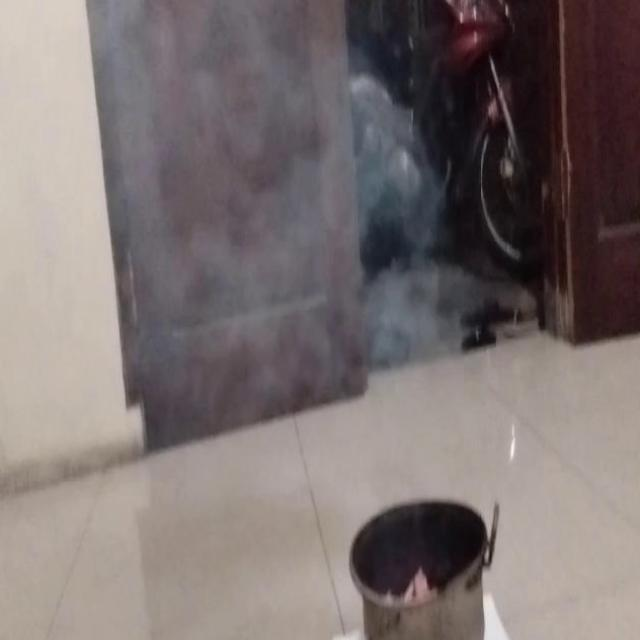fire: (77, 16, 406, 366)
